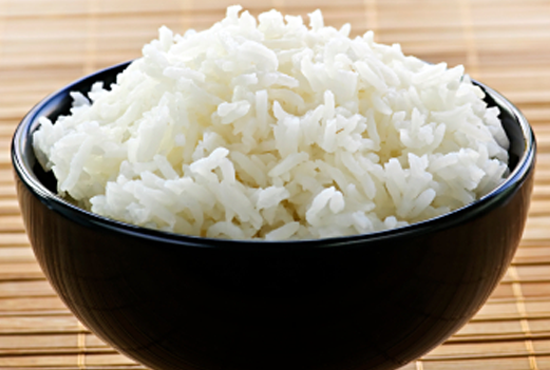rice: (32, 13, 516, 232)
